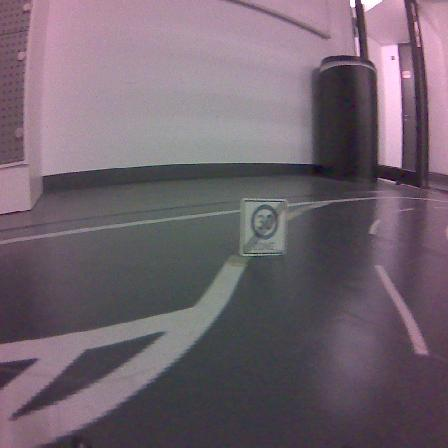30_ZONE_END: (240, 199, 288, 256)
